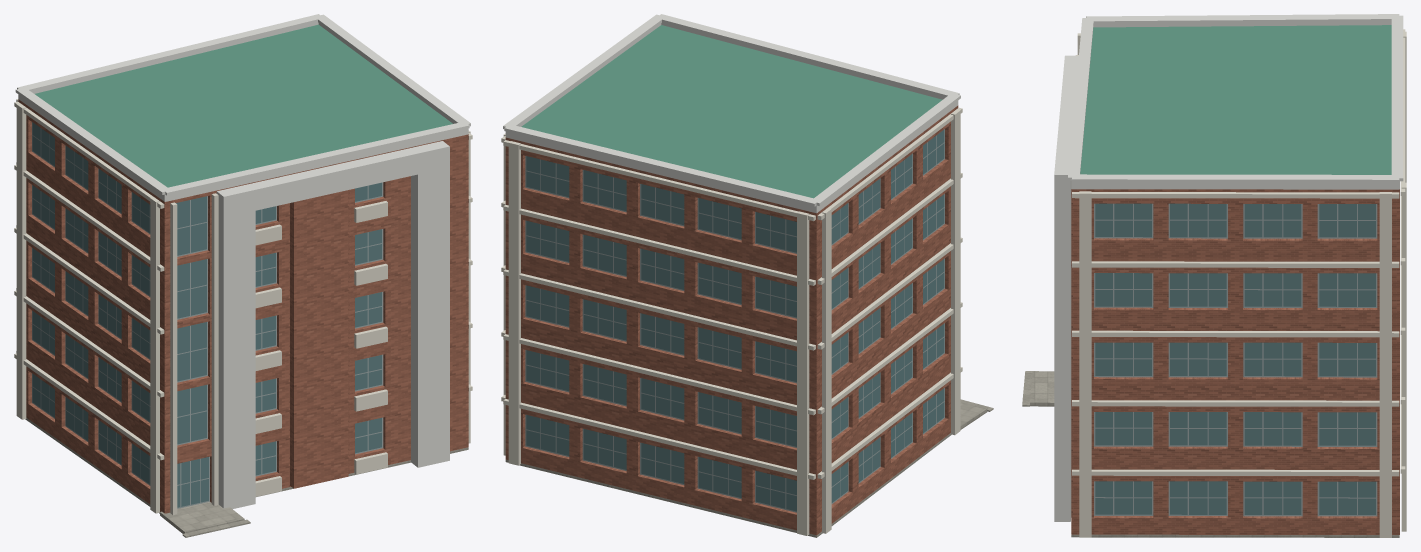
3 views of the same model, side by side, from view 1: azimuth 30°, elevation 25°; view 2: azimuth 150°, elevation 25°; view 3: azimuth 270°, elevation 25° (orthographic). The views are drawn at different scales.
Visible parts, largest first — view 1: wing4__brick, wing4__white, wing4__roof, wing4__glass, wing4__cream, wing4__frame, wing4__threshold-north-east, wing4__stone; view 2: wing4__brick, wing4__glass, wing4__roof, wing4__cream, wing4__white, wing4__frame, wing4__stone; view 3: wing4__brick, wing4__roof, wing4__glass, wing4__cream, wing4__white, wing4__frame, wing4__stone, wing4__threshold-north-east.
Part boxes in pixels (x1,y1,x2,y2): wing4__brick: (18, 99, 468, 513); wing4__white: (15, 14, 470, 508); wing4__roof: (35, 24, 452, 187); wing4__glass: (32, 122, 381, 507); wing4__cream: (14, 99, 472, 515); wing4__frame: (32, 122, 383, 508); wing4__threshold-north-east: (160, 501, 244, 533); wing4__stone: (25, 418, 468, 513); wing4__brick: (505, 105, 958, 535); wing4__glass: (526, 130, 944, 511); wing4__roof: (521, 25, 942, 198); wing4__cream: (501, 107, 962, 535); wing4__white: (503, 14, 960, 213); wing4__frame: (525, 129, 944, 512); wing4__stone: (505, 433, 951, 537); wing4__brick: (1071, 189, 1399, 534); wing4__roof: (1080, 25, 1391, 174); wing4__glass: (1095, 203, 1375, 514); wing4__cream: (1072, 29, 1406, 537); wing4__white: (1054, 14, 1403, 521); wing4__frame: (1094, 203, 1377, 516); wing4__stone: (1071, 534, 1399, 537); wing4__threshold-north-east: (1030, 371, 1054, 406).
Size of the model in its own units: 18.77 by 18.65 by 18.08.
Materials: 7 (2 with a texture image).
